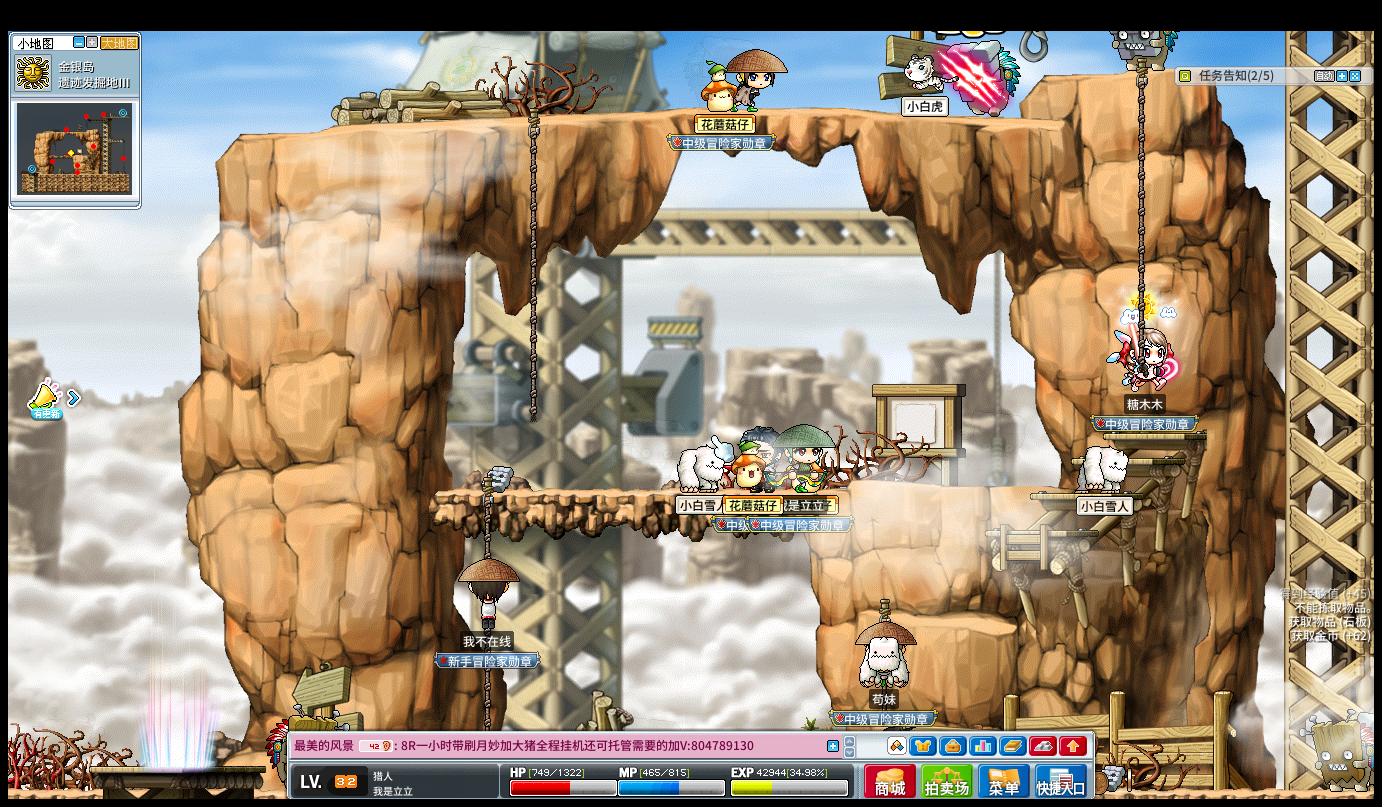floor: (232, 103, 1078, 139), (430, 488, 807, 499), (910, 613, 1016, 633), (1043, 67, 1174, 80), (895, 483, 1062, 492), (1029, 489, 1145, 498), (984, 528, 1094, 537), (1101, 429, 1206, 438), (1122, 456, 1180, 464)
monster: (1300, 703, 1377, 791), (958, 38, 1020, 117)
rope: (526, 106, 539, 421), (1134, 57, 1148, 299), (478, 480, 492, 559), (480, 668, 492, 727)
